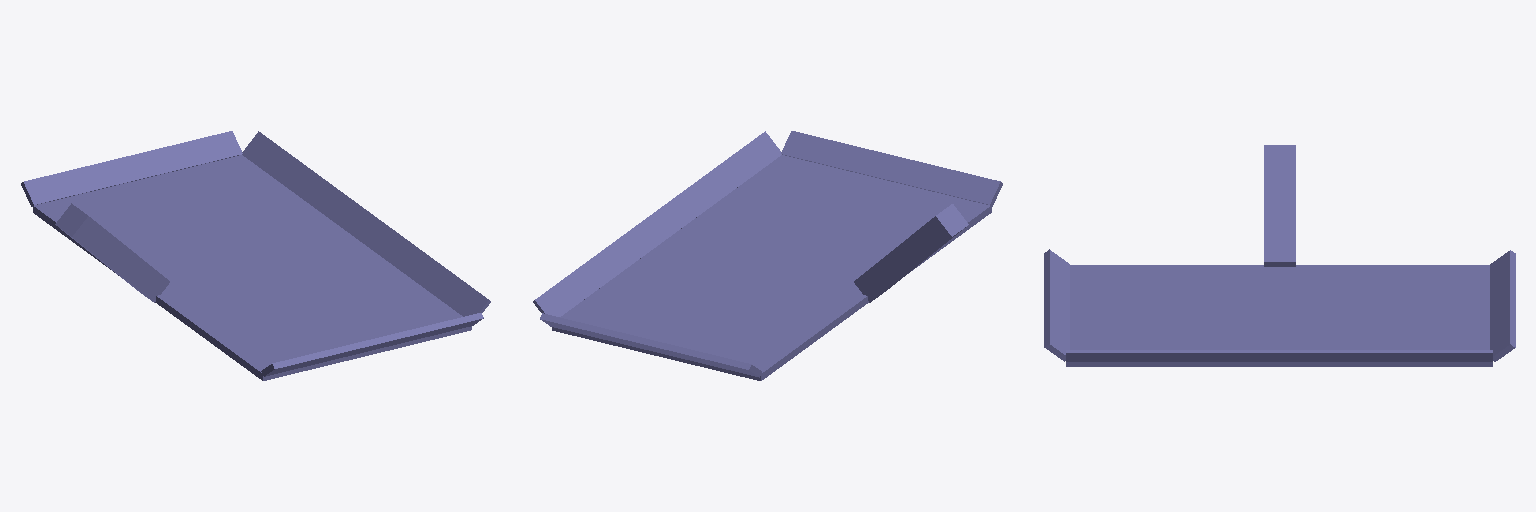
URDF robot description (transfer_plate):
<?xml version="0.0" ?>
<robot name="transfer_plate">
  <link name="base_link">
  <contact>
      <lateral_friction value="0.15"/>
  </contact>
    <inertial>
      <origin rpy="0 0 0" xyz="0 0 0"/>
       <mass value="0.05"/>
       <inertia ixx="0.0002" ixy="0" ixz="0" iyy="0.0002" iyz="0" izz="0.0002"/>
    </inertial>
    <visual>
      <origin rpy="0 0 0" xyz="0 0 0"/>
      <geometry>
				<mesh filename="transfer_plate.obj" scale="1 1 1"/>
      </geometry>
       <material name="blueish">
        <color rgba="0.5 0.5 0.7 1"/>
      </material>
    </visual>
    <collision>
      <origin rpy="0 0 0" xyz="0 0 0"/>
      <geometry>
				<mesh filename="transfer_plate_collision.obj" scale="1 1 1"/>
      </geometry>
    </collision>
  </link>
</robot>

--- What the picture shows (computed from the rendered views, not written in the file) ---
Views: 3 orthographic renders of the robot side by side, from view 1: azimuth 30°, elevation 25°; view 2: azimuth 150°, elevation 25°; view 3: azimuth 270°, elevation 25°.
Model transfer_plate with 1 links and 0 joints (none), rooted at base_link, posed every joint at zero.
Links seen in each view (by area): view 1: base_link; view 2: base_link; view 3: base_link.
Boxes of the visible links, x1=… form: base_link: x1=21, y1=131, x2=490, y2=380; base_link: x1=533, y1=131, x2=1002, y2=380; base_link: x1=1044, y1=145, x2=1515, y2=366.
Bounding box of the posed robot: 0.148 × 0.2085 × 0.047 m (x, y, z).
1 mesh visuals loaded from 1 distinct referenced files (1 OBJ).
